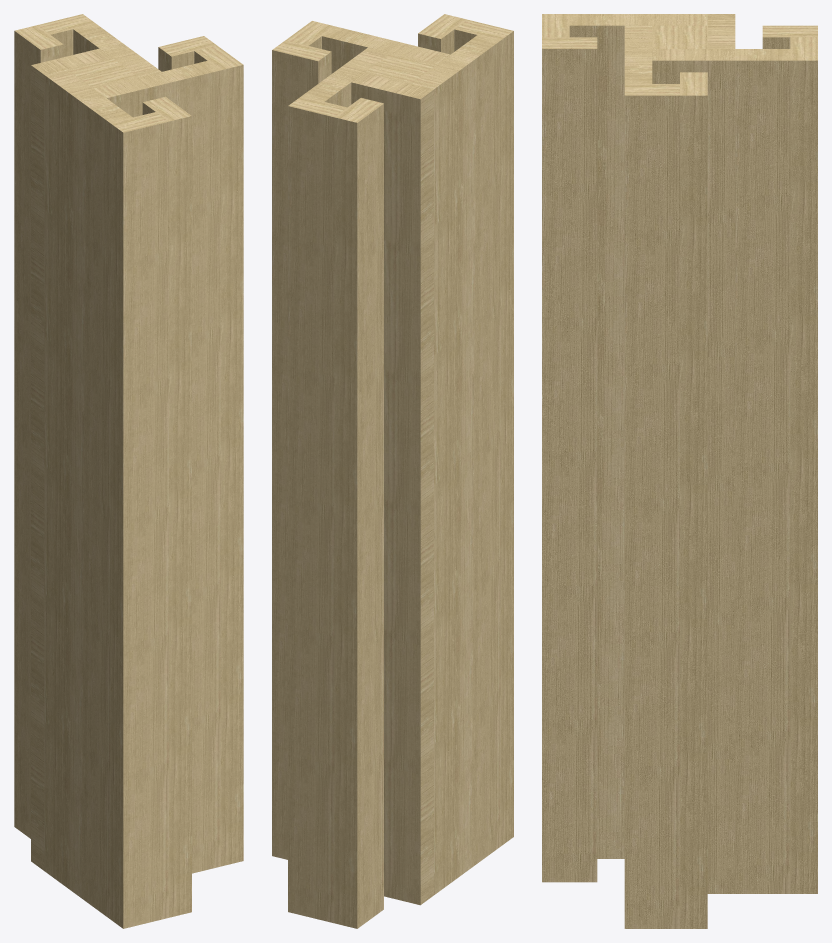
The picture shows the model from 3 angles, left to right: view 1: azimuth 30°, elevation 25°; view 2: azimuth 150°, elevation 25°; view 3: azimuth 270°, elevation 25°; orthographic projection. The views are drawn at different scales.
Visible parts, largest first — view 1: Geom3D (×15); view 2: Geom3D (×15); view 3: Geom3D (×13).
Boxes of the visible parts, x1,y1,x2,y2 form: Geom3D (×15): (14, 14, 243, 928); Geom3D (×15): (272, 14, 513, 928); Geom3D (×13): (542, 14, 817, 928).
Bounding box in the file's own units: 0.126 × 0.6 × 0.18.
1 material, 1 textured.
